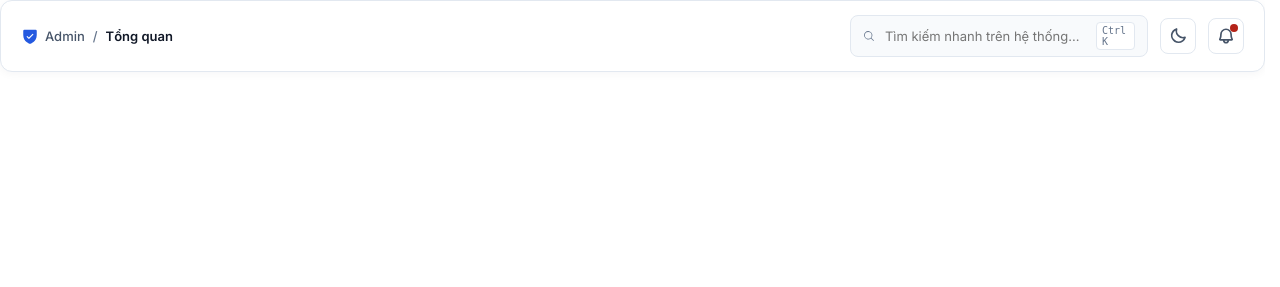
Test case: Clarity Ops — Unified Analytics Dashboard › renders Clarity Topbar with search, dark mode toggle and notifications popover
This screenshot has width=1280, height=287.
Expected: the header named "Thanh điều khiển đầu trang Admin" is shown, x1=0 y1=0 x2=1265 y2=72
# Search input
Type "order-99" into the field named "Tìm kiếm nhanh toàn hệ thống" at (985, 36), box x1=883 y1=27 x2=1088 y2=45
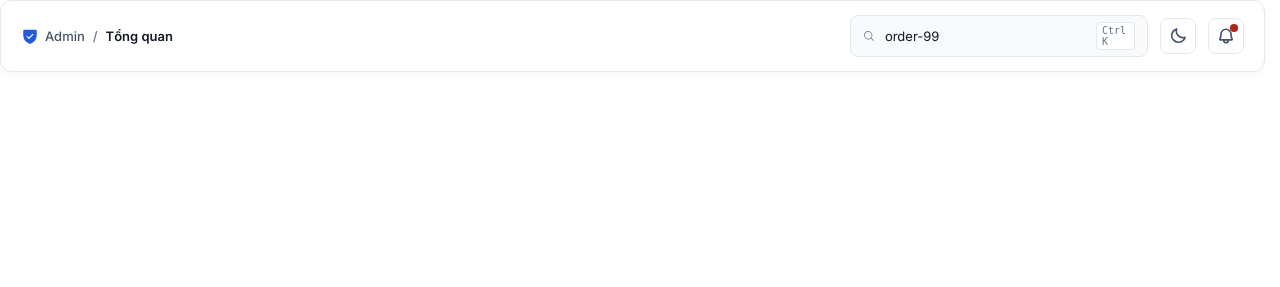
# Dark mode toggle
Click the button named "Chuyển sang giao diện" at (1178, 36), box x1=1160 y1=18 x2=1196 y2=54
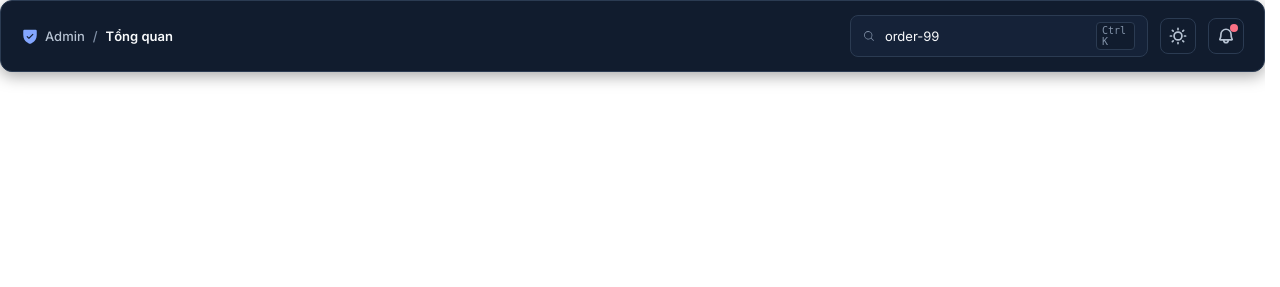
Click the button named "Chuyển sang giao diện" at (1178, 36), box x1=1160 y1=18 x2=1196 y2=54
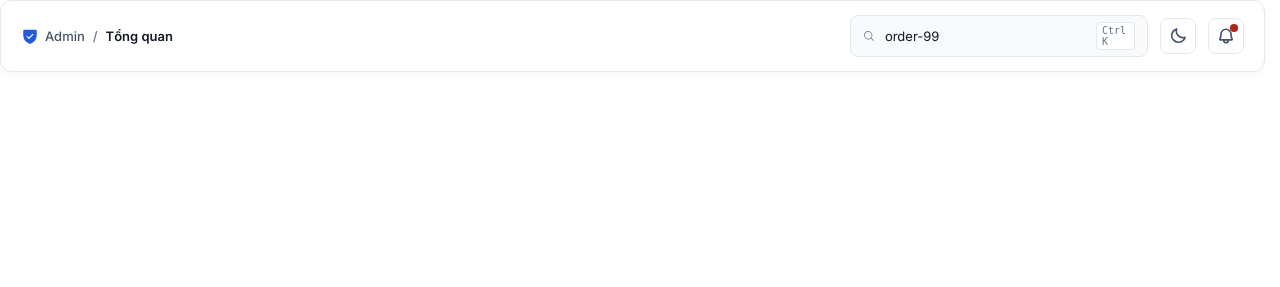
# Notification bell
Click the button named "Thông báo hệ thống" at (1226, 36), box x1=1208 y1=18 x2=1244 y2=54
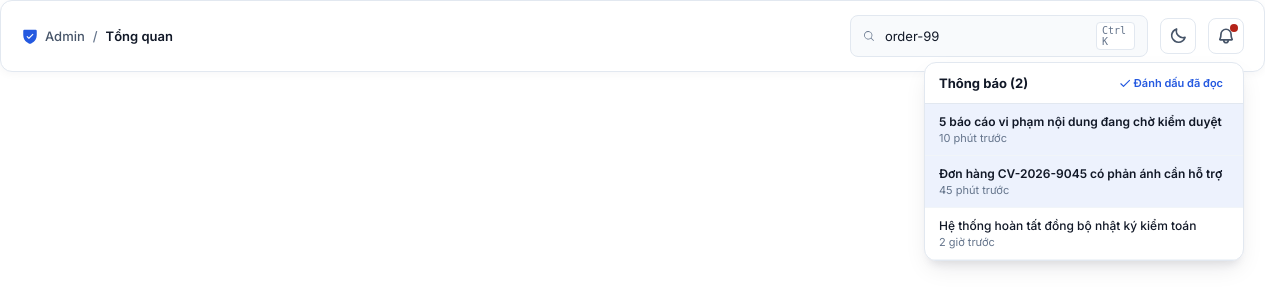
Now the text "5 báo cáo vi phạm nội dung đang chờ kiểm duyệt" is shown, box x1=939 y1=114 x2=1229 y2=129
